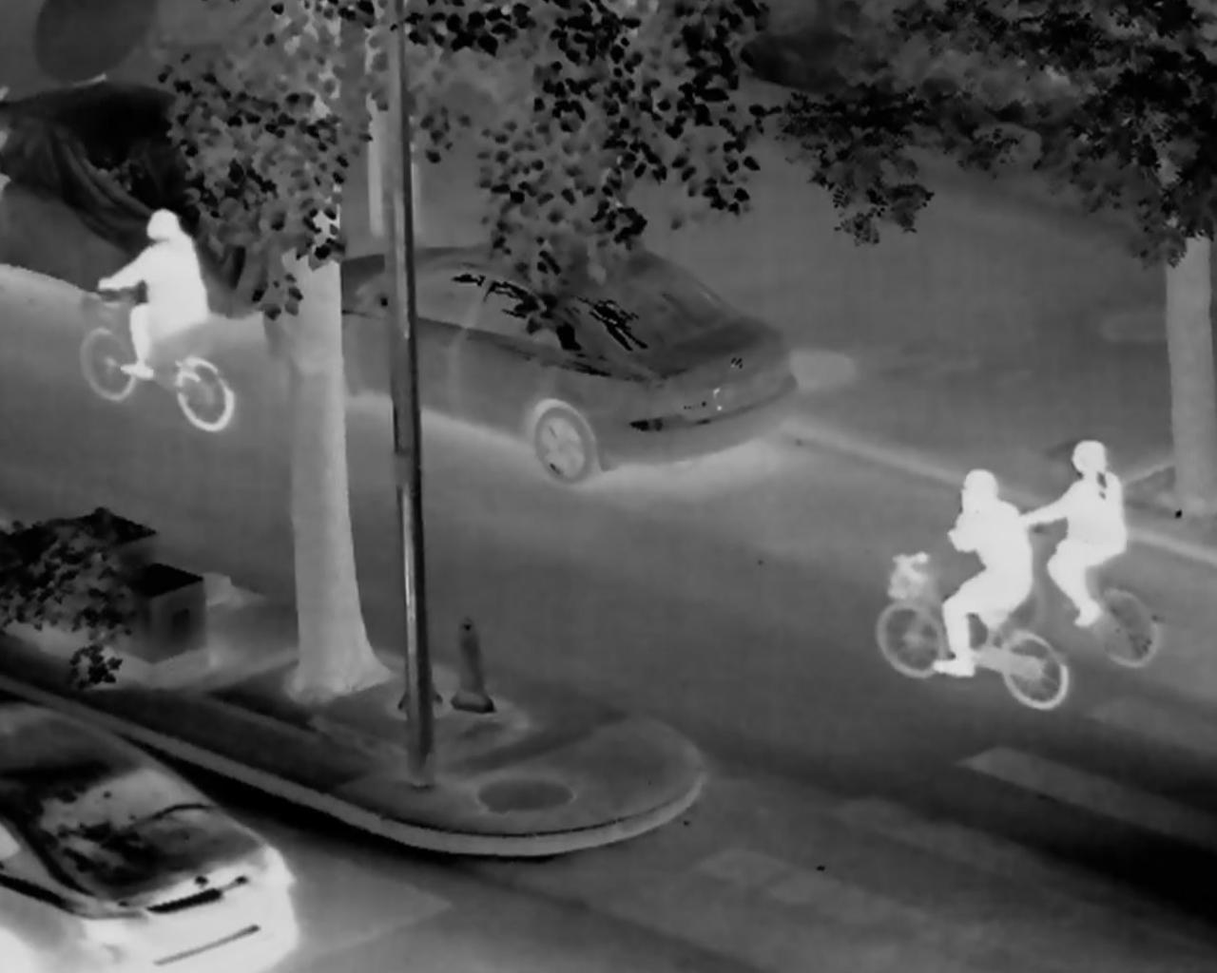person: (935, 470, 1031, 680), (1022, 443, 1129, 628), (94, 212, 205, 380)
